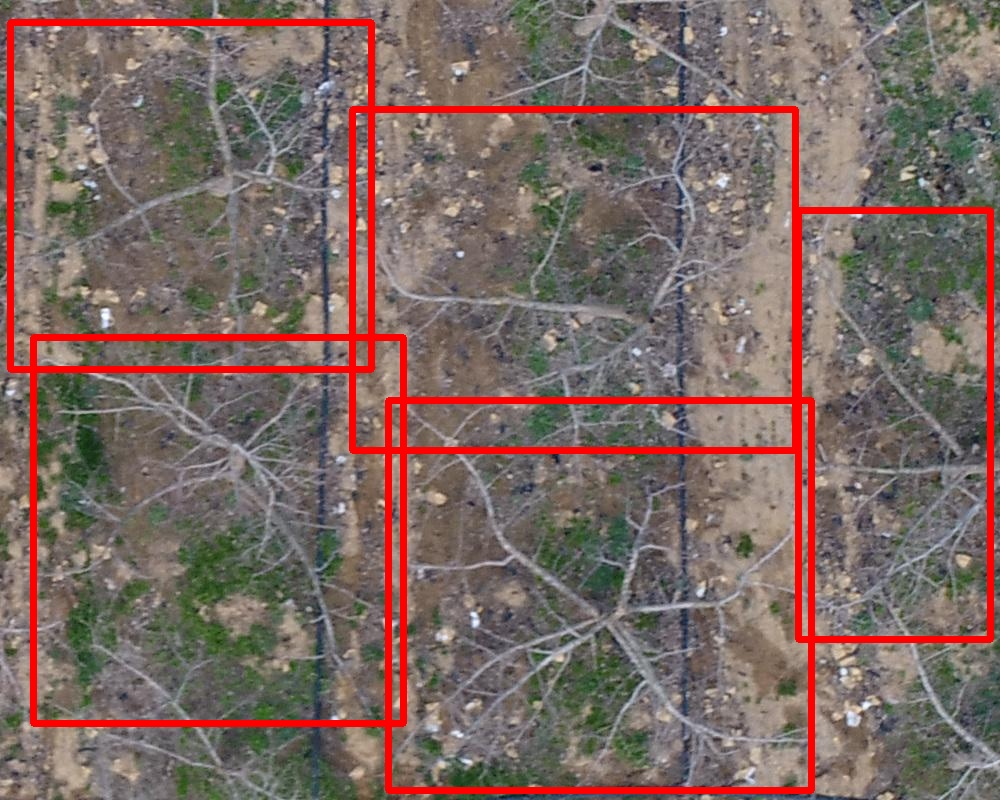apple: (388, 400, 811, 790), (352, 109, 795, 450), (33, 337, 403, 723), (10, 22, 371, 369), (798, 210, 990, 639)
